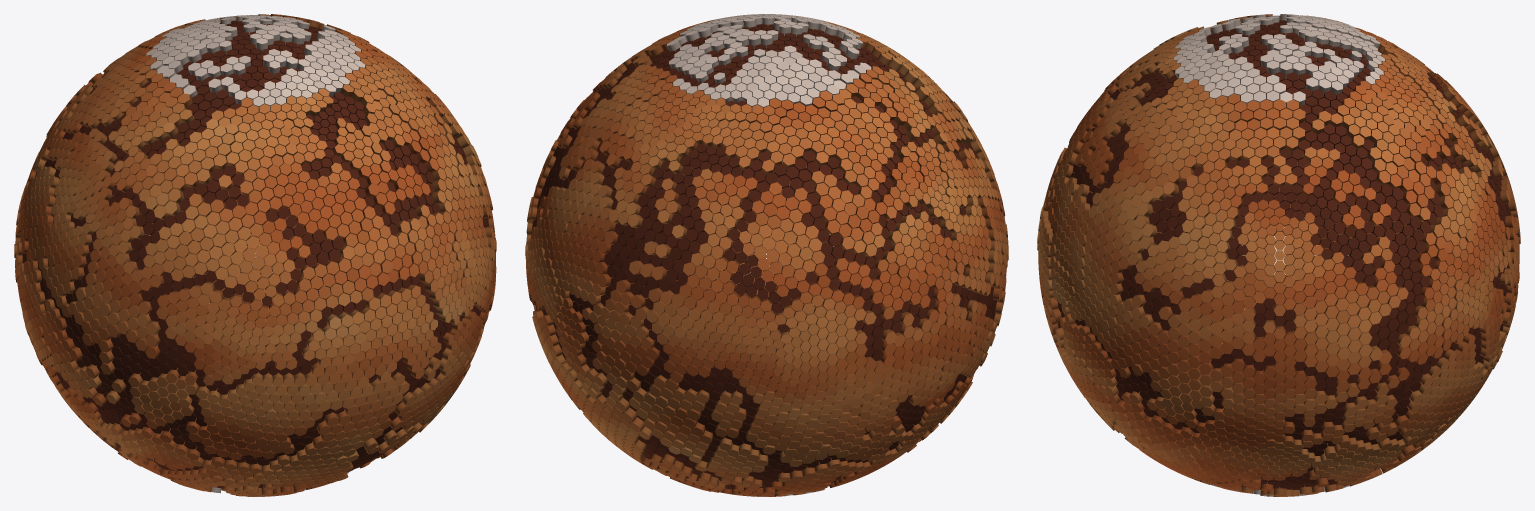
The model's file is desert_0.glb.
3 renders of one model, left to right at view 1: azimuth 30°, elevation 25°; view 2: azimuth 150°, elevation 25°; view 3: azimuth 270°, elevation 25°, orthographic.
Parts seen in each view (by area): view 1: desert_0; view 2: desert_0; view 3: desert_0.
Boxes of the visible parts, x1,y1,x2,y2 form: desert_0: [14, 14, 496, 496]; desert_0: [525, 14, 1008, 496]; desert_0: [1037, 14, 1520, 496].
Size of the model in its own units: 2.04 by 2.05 by 2.05.
